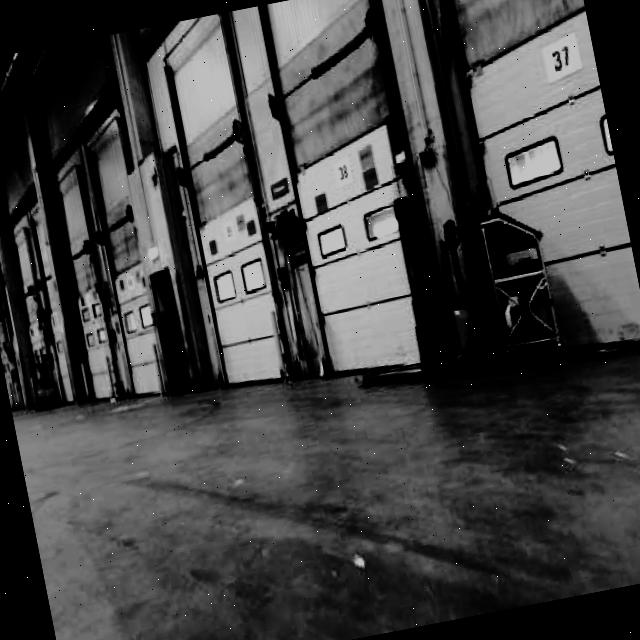ground: (12, 283, 640, 640)
pallet: (475, 203, 569, 374)
